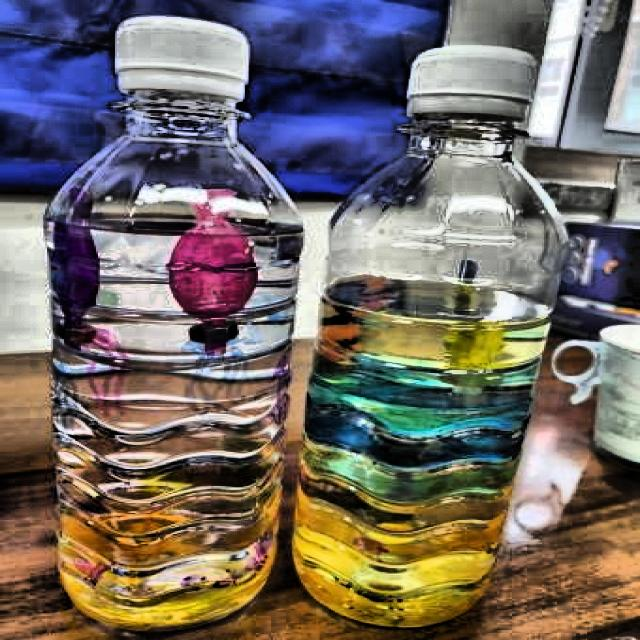Bottles: (27, 10, 318, 638), (286, 36, 578, 632)
